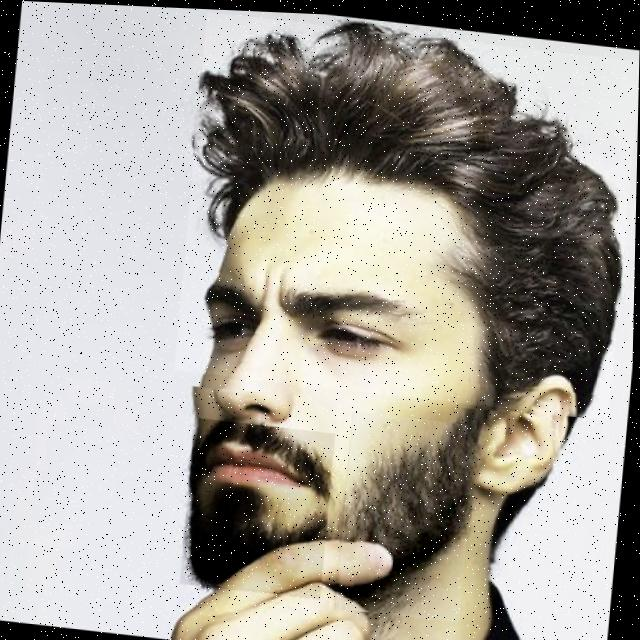beard: (342, 419, 472, 609), (191, 419, 329, 584)
hair: (194, 31, 622, 410)
